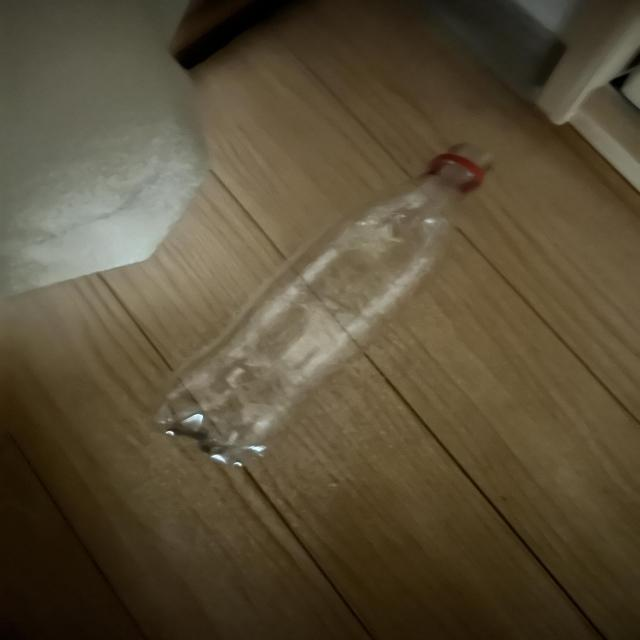empty: (156, 145, 490, 466)
